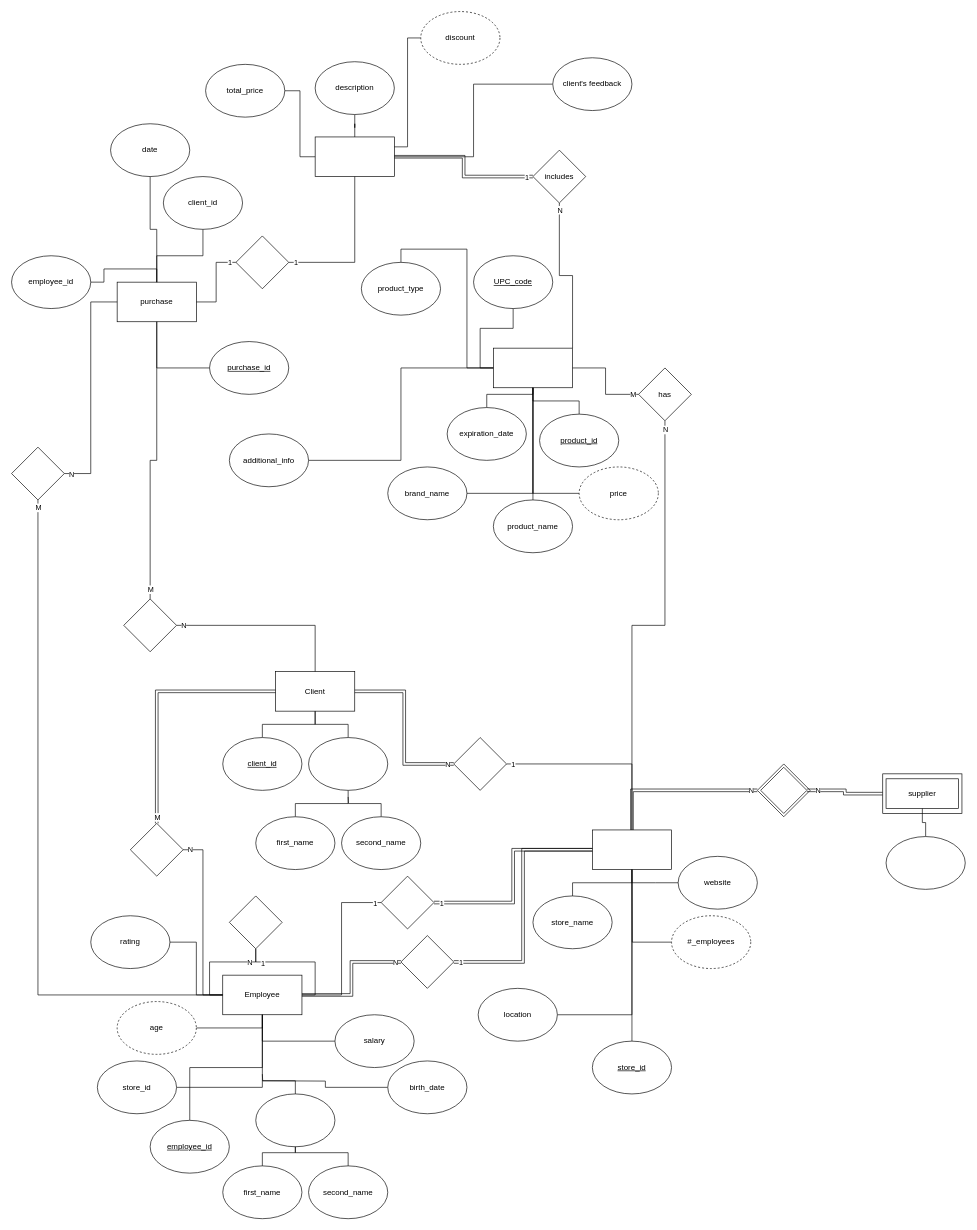
Image size: 977x1230. Some labels were removed from this diagram. Here are the shapes that lost their labels. From the top down, the box of each, then its label:
(314, 136, 394, 177): purchase_details
(235, 235, 289, 289): contains
(493, 347, 573, 388): product
(11, 446, 64, 500): sells
(123, 598, 177, 652): buys
(308, 737, 388, 790): client_name
(453, 737, 507, 790): interact
(760, 767, 807, 813): supplies
(130, 823, 183, 876): works with
(592, 829, 672, 870): Store
(885, 836, 965, 889): supplier_name
(229, 895, 282, 949): Supervision
(380, 875, 434, 929): manages
(400, 935, 454, 988): works for
(255, 1093, 335, 1147): employee_name
